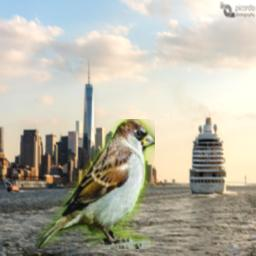Sparrow: (35, 119, 155, 249)
